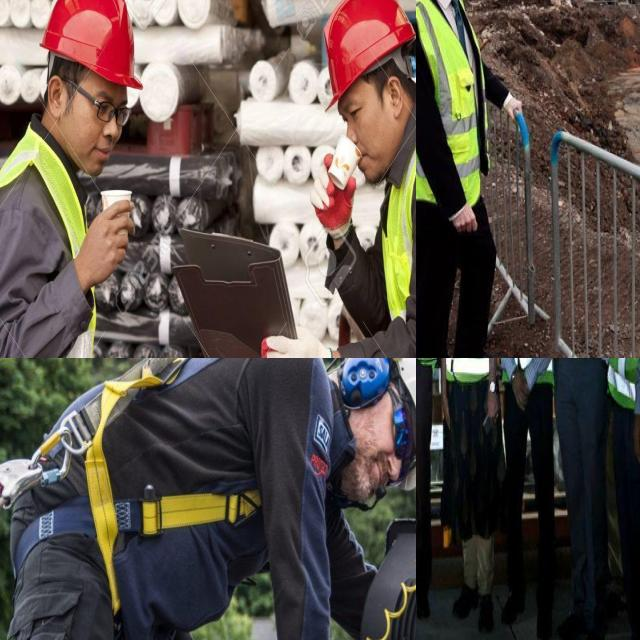Ear-protection: (318, 358, 416, 521)
No_Ear-Protection: (384, 70, 407, 122), (44, 71, 67, 123)
No_Glasses: (335, 75, 405, 126)
face_nomask: (58, 70, 133, 174), (341, 88, 392, 194)
hand_glove: (304, 144, 358, 238), (263, 312, 343, 358)
hand_noglove: (74, 204, 137, 292), (450, 197, 483, 240), (511, 362, 532, 416), (506, 92, 526, 126), (441, 392, 454, 433), (487, 389, 500, 424), (633, 426, 640, 469)
head_helmet: (326, 0, 416, 111), (36, 0, 143, 89)
person: (0, 0, 141, 358), (310, 0, 416, 358), (416, 0, 511, 358), (550, 358, 607, 640), (436, 358, 492, 625), (497, 358, 552, 614), (604, 358, 640, 640), (416, 358, 442, 626)
shoes: (458, 343, 511, 358)
vest: (0, 148, 95, 358), (416, 0, 500, 211)
